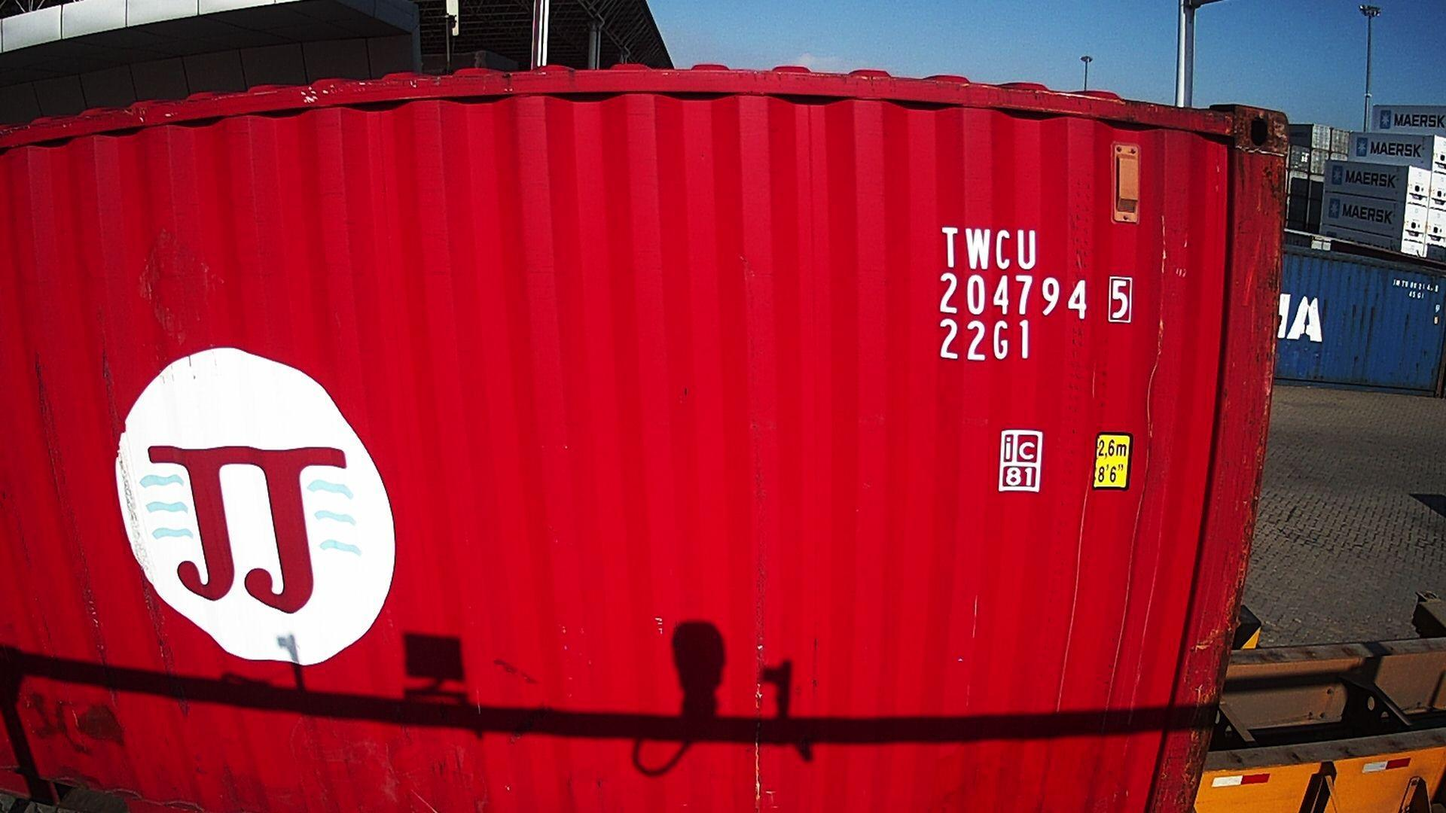container-numbers: (933, 270, 1135, 324), (935, 221, 1039, 273), (935, 318, 1034, 369)
